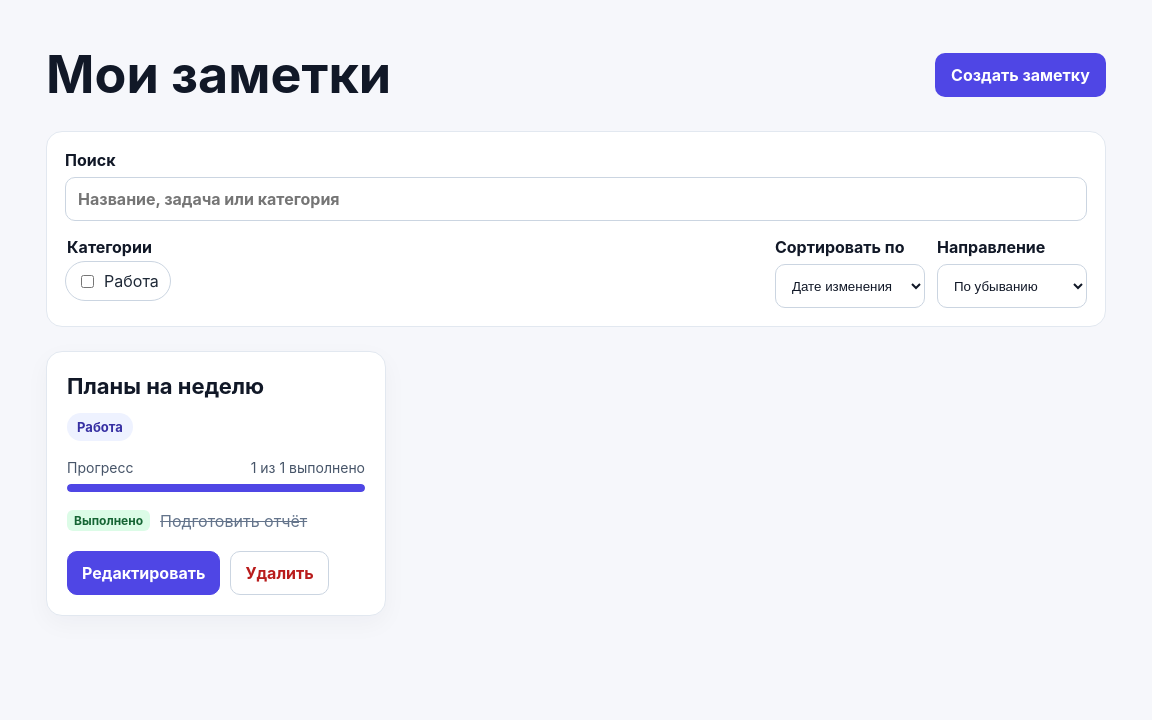
home page › deletes a note only after explicit confirmation
The width and height of the screenshot is (1152, 720).
What coordinates should you click on to do the following:
click the button with test id "note-delete"
I would click on:
 (280, 573)
Its box is top-left (230, 551), bottom-right (329, 595).
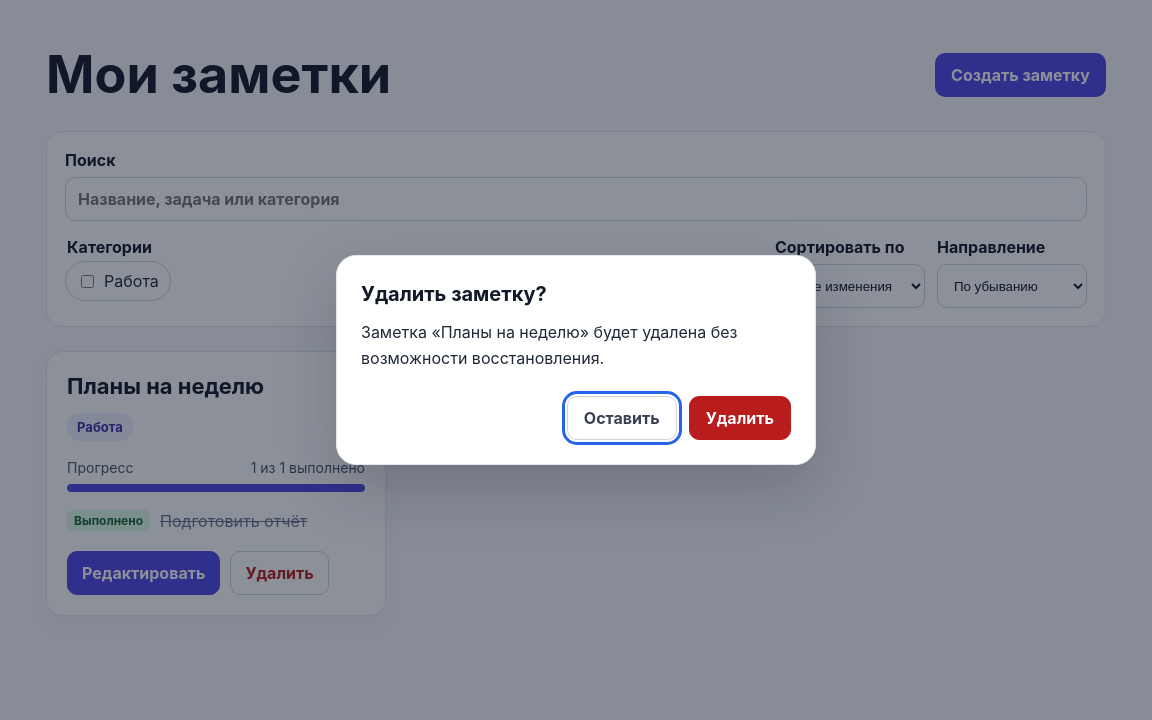
Check: the dialog shows "Планы на неделю", box top-left (361, 322), bottom-right (737, 368)
What coordinates should you click on to do the following:
click the button with test id "modal-cancel"
I would click on:
 (622, 418)
Its box is top-left (567, 396), bottom-right (677, 440).
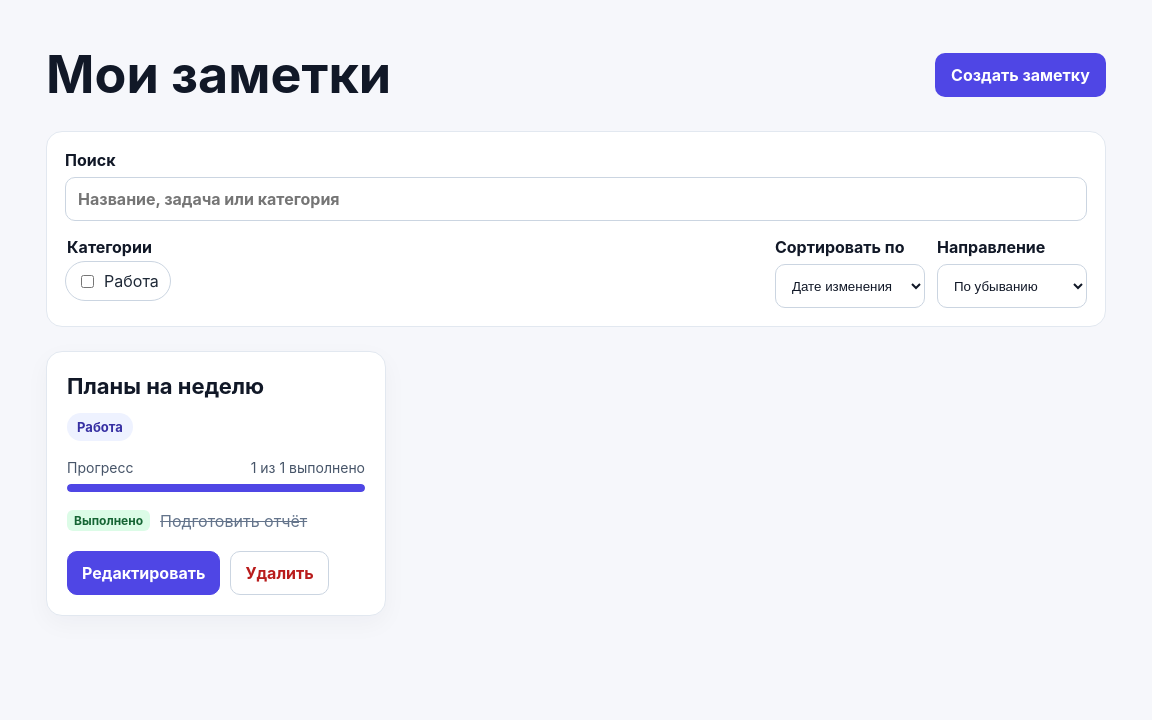
What coordinates should you click on to do the following:
click the button with test id "note-delete"
I would click on:
 (280, 573)
Its box is top-left (230, 551), bottom-right (329, 595).
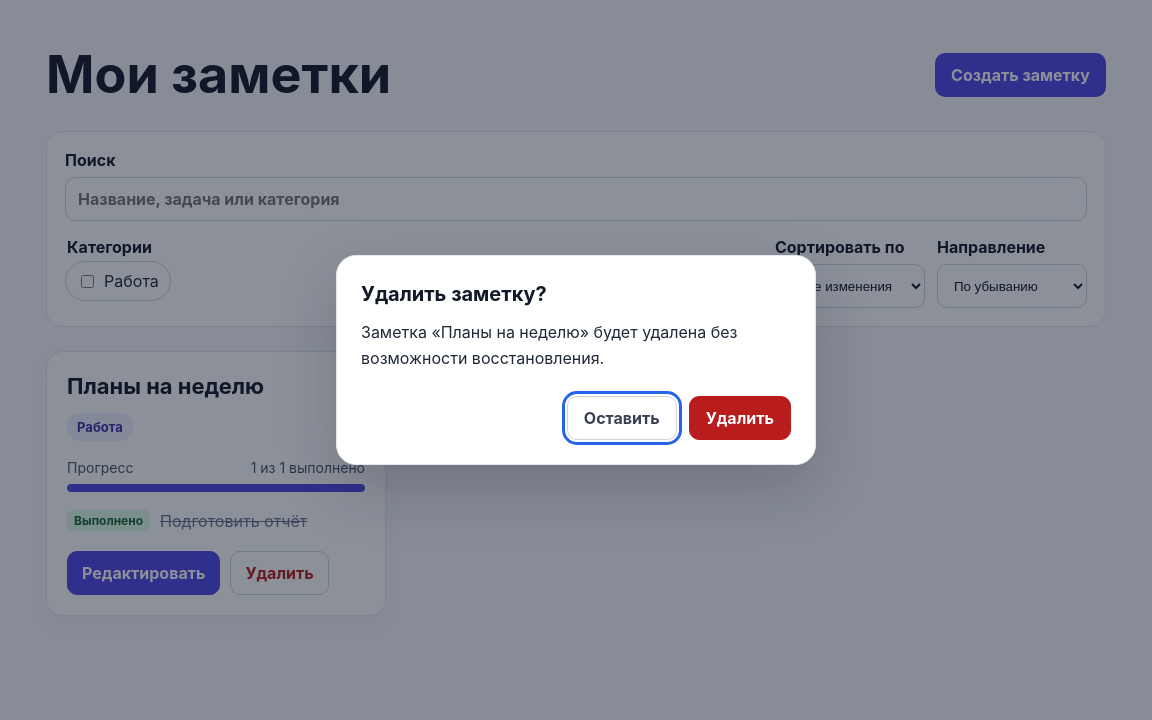
What coordinates should you click on to do the following:
click the button with test id "modal-confirm"
I would click on:
 (740, 418)
Its box is top-left (689, 396), bottom-right (791, 440).
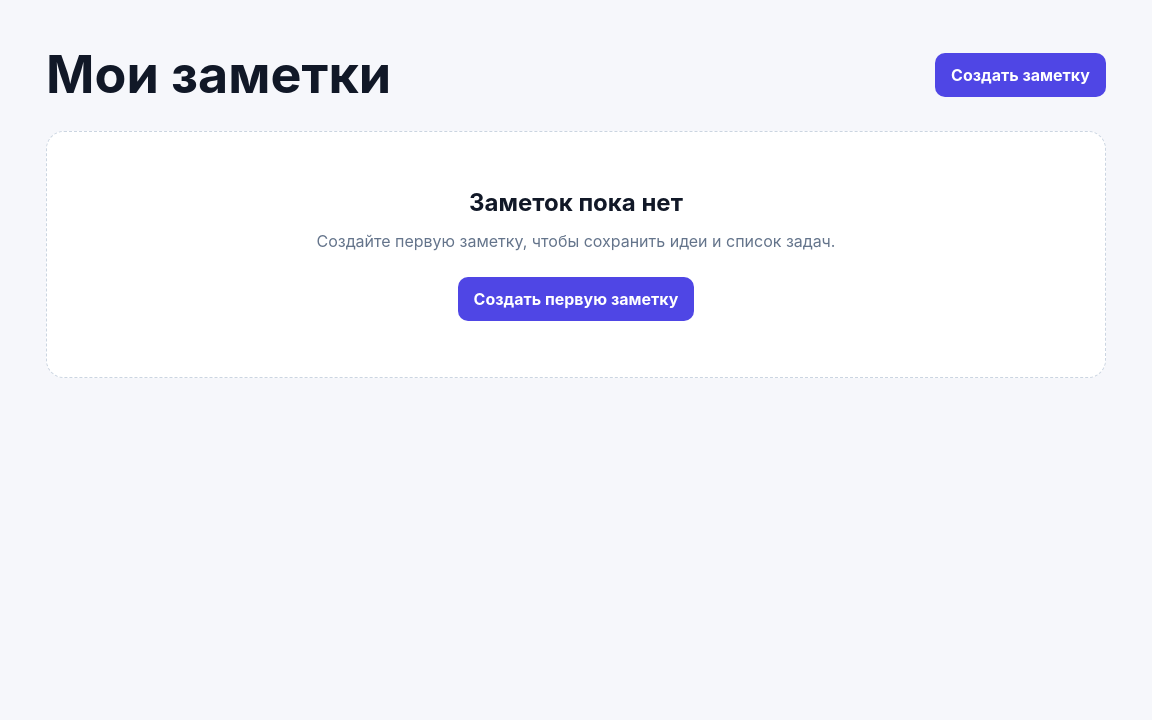
Check: no elements with test id "note-card" are shown
Check: the text "Заметок пока нет" is shown, box top-left (469, 188), bottom-right (683, 217)
